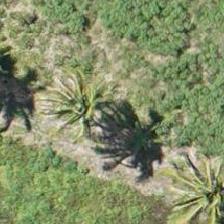coconut_tree: (32, 66, 122, 156), (170, 142, 223, 223)
